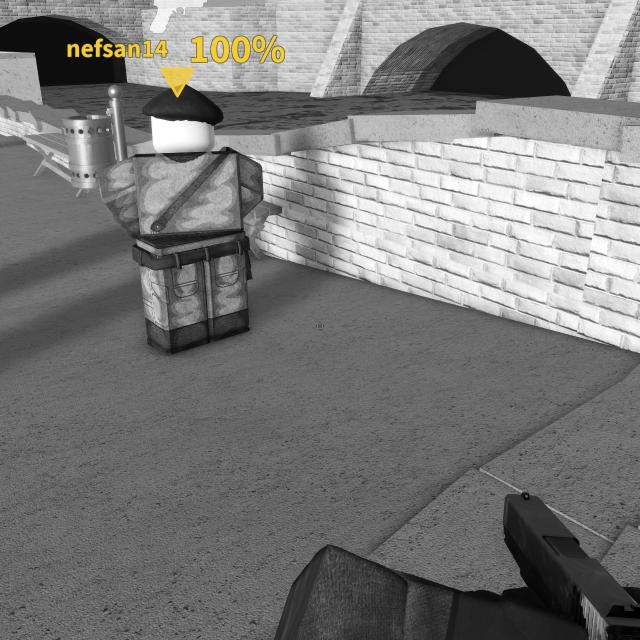Head: (149, 86, 223, 154)
Player: (96, 87, 264, 354)
